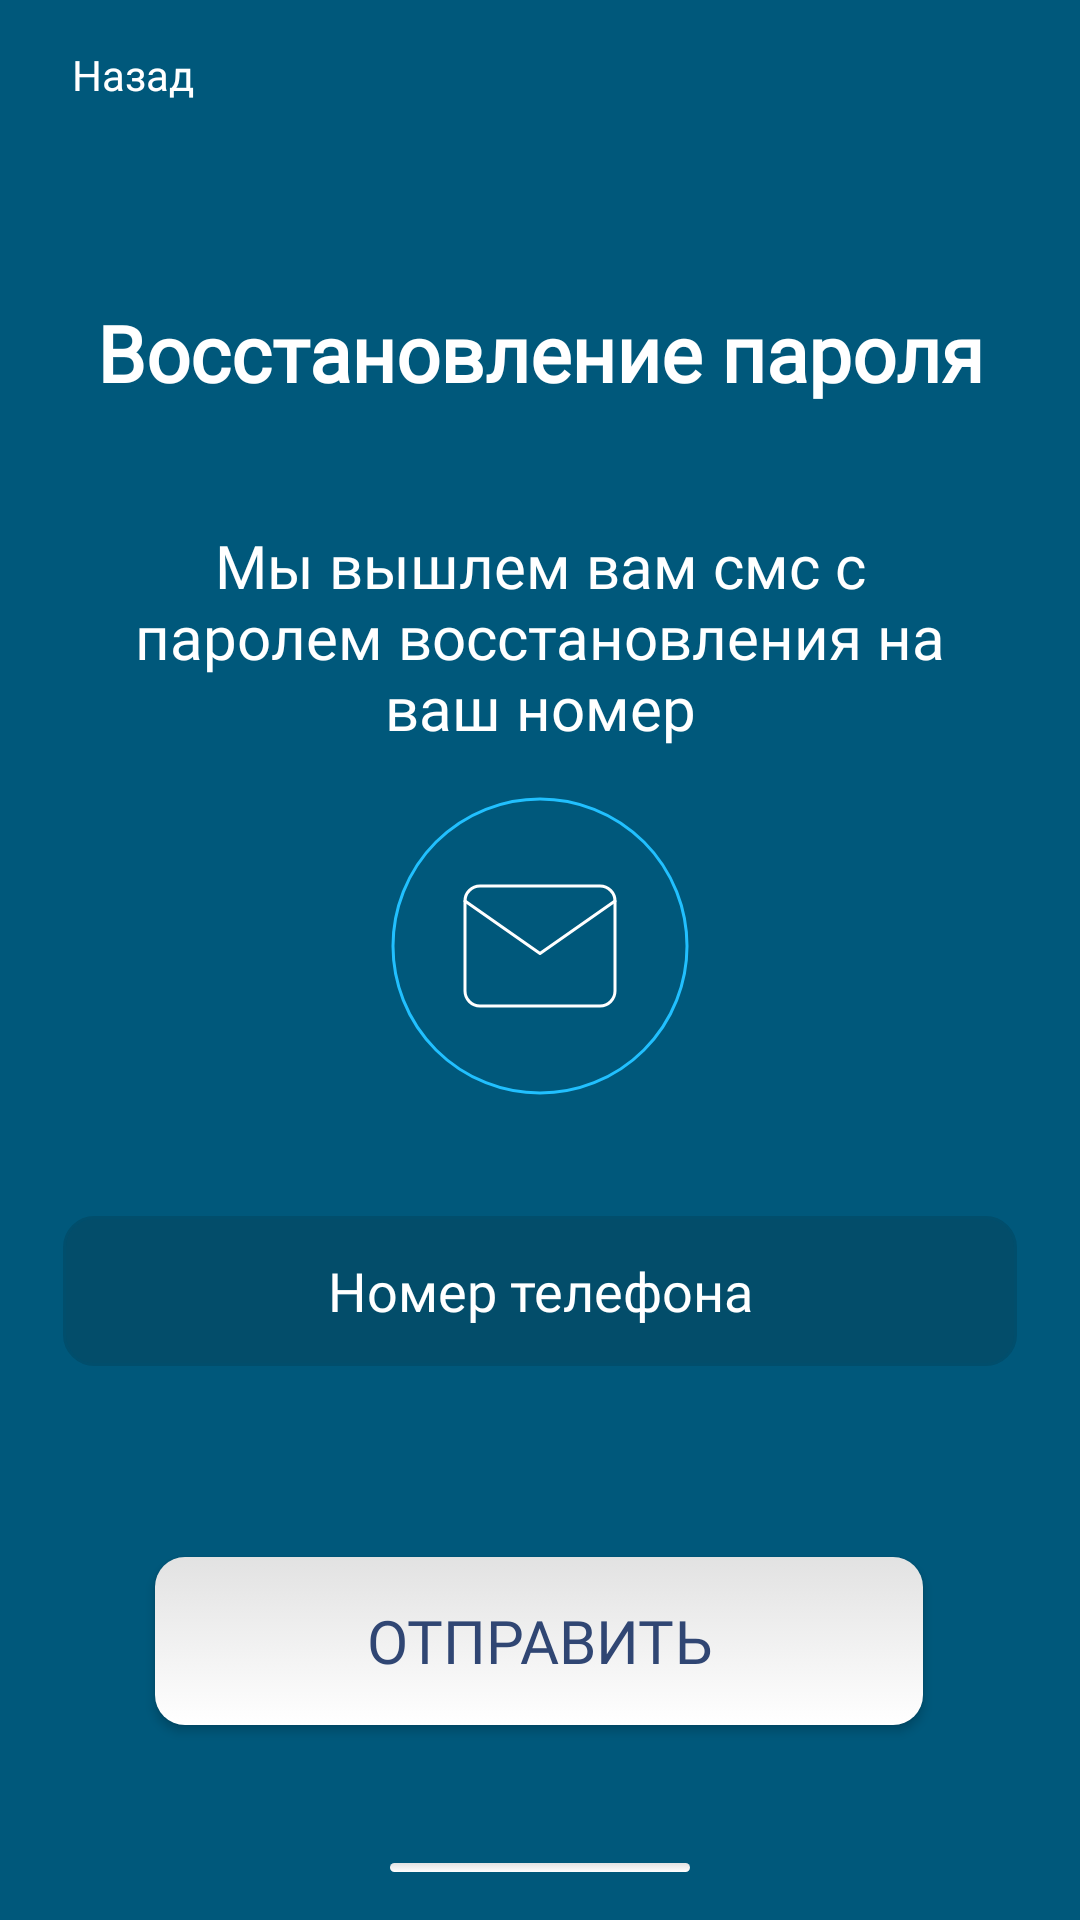

Screen size 1080 × 1920. Icon name, then its center in pixels as (x=x, y=y):
mail: (x=540, y=946)
